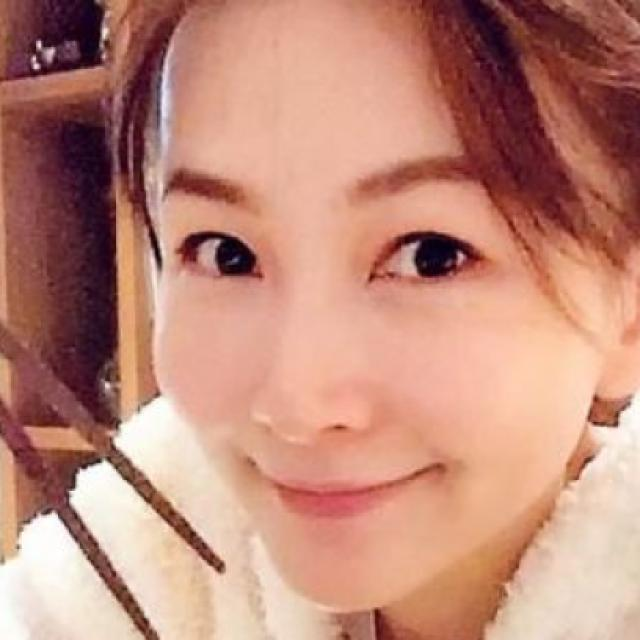Normal: (154, 0, 615, 620)
